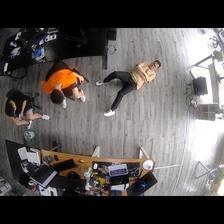fall: (96, 58, 162, 118)
normal: (41, 68, 86, 109), (8, 96, 50, 129)
